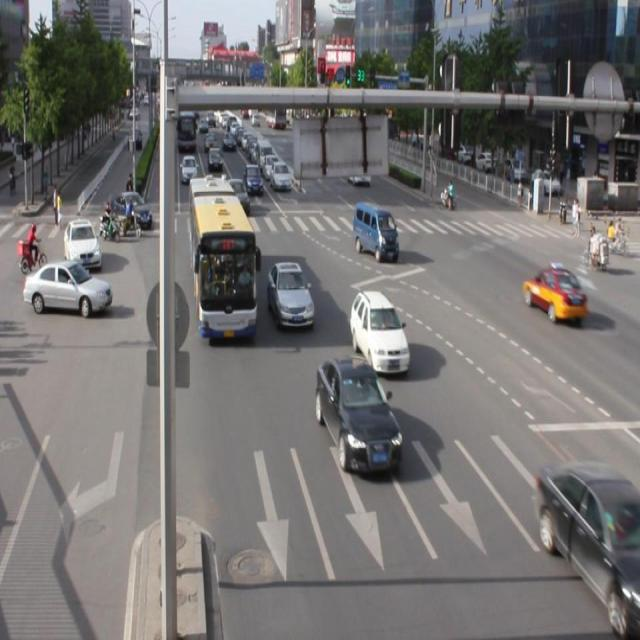BigCar: (173, 165, 273, 353), (167, 103, 206, 152)
car: (524, 432, 640, 640), (300, 342, 414, 489), (522, 237, 596, 346), (22, 257, 110, 331), (345, 288, 416, 378), (348, 185, 409, 275), (268, 256, 312, 346), (56, 206, 107, 274), (114, 182, 150, 238), (242, 159, 274, 201), (266, 153, 295, 195), (207, 144, 228, 177), (179, 150, 195, 191)
